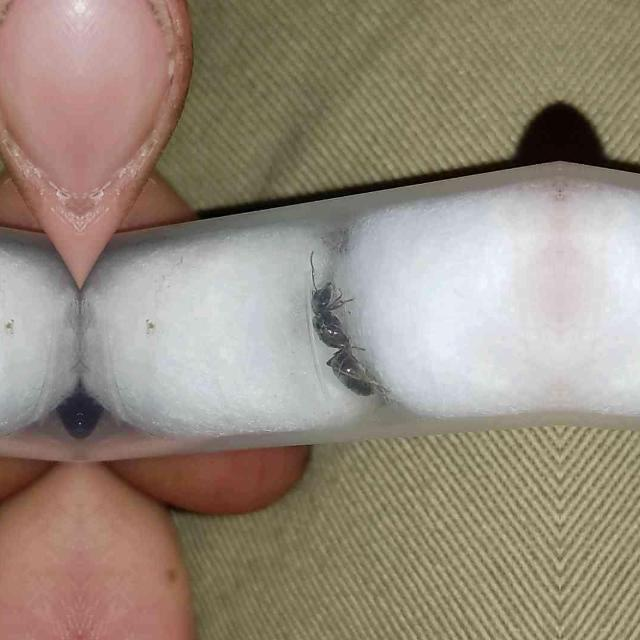Lasius: (298, 260, 384, 408)
